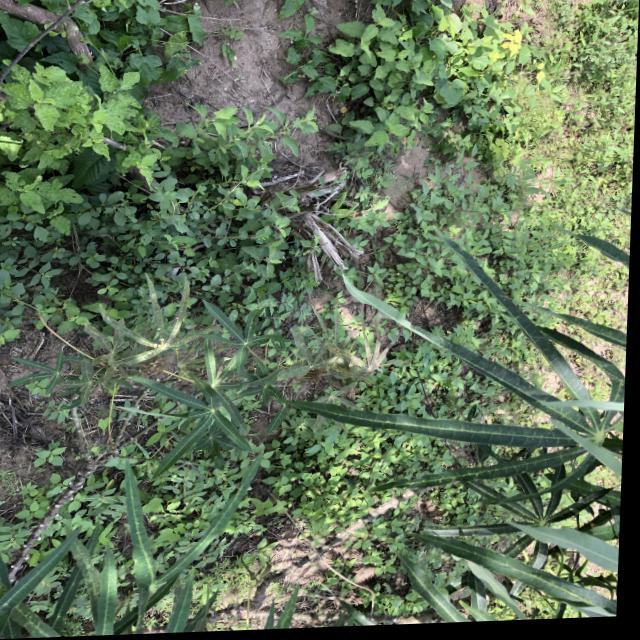Maleza: (147, 11, 436, 279), (0, 117, 288, 300), (310, 0, 544, 171), (0, 27, 158, 242), (443, 75, 619, 230)
Mosca: (62, 551, 95, 580), (339, 352, 357, 374)
